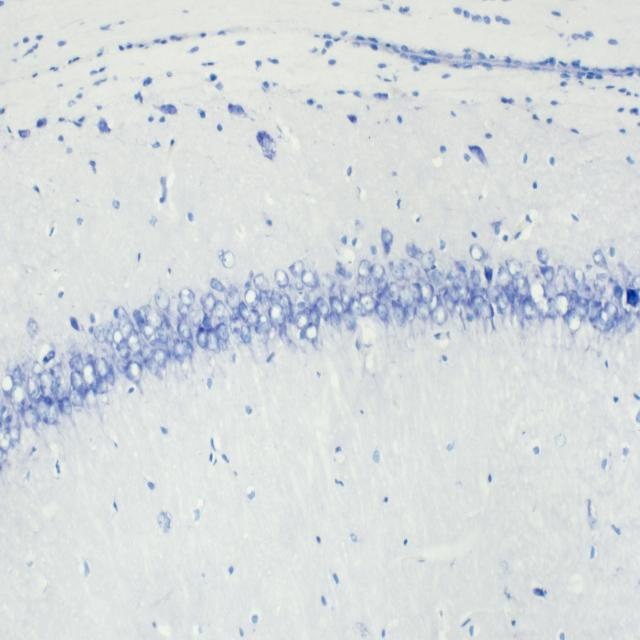neuron: (214, 299, 232, 327), (528, 279, 546, 305), (40, 368, 54, 400), (453, 273, 469, 301), (339, 284, 354, 312), (390, 300, 406, 326), (268, 303, 286, 326), (180, 356, 197, 380), (554, 293, 570, 318), (81, 360, 96, 386), (315, 296, 330, 322), (126, 360, 142, 384), (142, 322, 158, 346), (54, 376, 68, 402), (206, 326, 220, 352), (301, 268, 319, 288), (399, 282, 414, 306), (154, 288, 170, 310), (190, 304, 206, 326), (506, 258, 522, 280), (574, 296, 590, 318), (572, 267, 585, 294), (523, 296, 538, 319), (593, 248, 608, 271), (176, 321, 194, 340), (146, 311, 163, 331), (218, 249, 235, 269), (359, 292, 376, 312), (35, 394, 48, 420), (254, 314, 270, 335), (495, 268, 511, 289), (23, 405, 38, 427), (342, 310, 357, 332), (433, 304, 448, 326), (567, 311, 582, 333), (154, 339, 171, 358), (253, 273, 270, 292), (118, 318, 132, 341), (200, 292, 216, 312), (414, 301, 430, 321), (244, 287, 259, 308), (10, 382, 24, 404), (172, 340, 186, 362), (375, 300, 389, 322), (350, 299, 367, 317), (179, 288, 195, 307), (294, 311, 310, 330), (420, 251, 436, 270), (27, 376, 39, 401), (1, 374, 14, 397), (604, 301, 618, 322), (132, 308, 144, 332), (486, 285, 502, 303), (46, 402, 59, 424), (421, 282, 434, 304), (215, 322, 230, 341), (274, 269, 289, 288), (388, 261, 403, 280), (127, 334, 141, 354), (152, 348, 166, 368), (227, 289, 241, 309), (305, 323, 319, 343), (400, 260, 414, 280), (480, 300, 494, 320), (598, 308, 612, 328), (70, 370, 83, 391), (321, 273, 336, 291), (116, 305, 130, 324), (103, 322, 115, 344), (546, 298, 558, 320), (554, 272, 566, 294), (116, 338, 129, 358), (366, 274, 379, 294), (448, 284, 461, 304), (68, 354, 84, 370), (238, 300, 249, 323), (303, 289, 317, 307), (290, 260, 304, 278), (329, 296, 343, 314), (358, 260, 372, 278), (540, 265, 554, 283), (536, 247, 550, 265), (59, 397, 72, 416), (93, 323, 106, 342), (328, 311, 341, 330), (381, 228, 394, 247), (97, 356, 108, 378), (106, 363, 116, 387), (147, 356, 159, 376), (195, 327, 207, 347), (588, 299, 598, 323), (94, 377, 108, 394), (370, 263, 384, 280), (593, 276, 606, 294), (410, 283, 422, 302), (160, 319, 169, 344), (376, 292, 391, 307), (115, 357, 128, 374), (181, 340, 194, 357), (247, 309, 260, 326), (496, 293, 509, 310), (240, 324, 251, 344), (444, 292, 454, 314), (308, 309, 320, 327), (50, 363, 64, 378), (0, 432, 11, 451), (389, 282, 400, 301), (9, 426, 21, 443), (112, 328, 124, 345), (377, 277, 389, 294), (404, 305, 416, 322), (428, 294, 438, 314), (69, 342, 83, 356), (210, 278, 224, 292), (71, 392, 84, 407), (177, 302, 189, 318), (431, 270, 443, 286), (515, 276, 527, 292), (141, 343, 151, 362), (42, 350, 56, 363), (404, 242, 416, 257), (270, 290, 281, 306), (471, 270, 481, 287), (471, 295, 484, 308), (138, 304, 152, 316), (216, 339, 228, 353), (456, 260, 468, 274), (556, 266, 570, 278), (32, 360, 42, 376), (336, 261, 346, 277), (473, 286, 486, 298), (259, 291, 270, 305), (614, 283, 623, 300), (4, 414, 13, 430), (411, 264, 421, 277), (540, 303, 548, 318), (12, 366, 20, 379), (296, 281, 304, 291), (297, 301, 305, 309), (370, 246, 378, 254)
